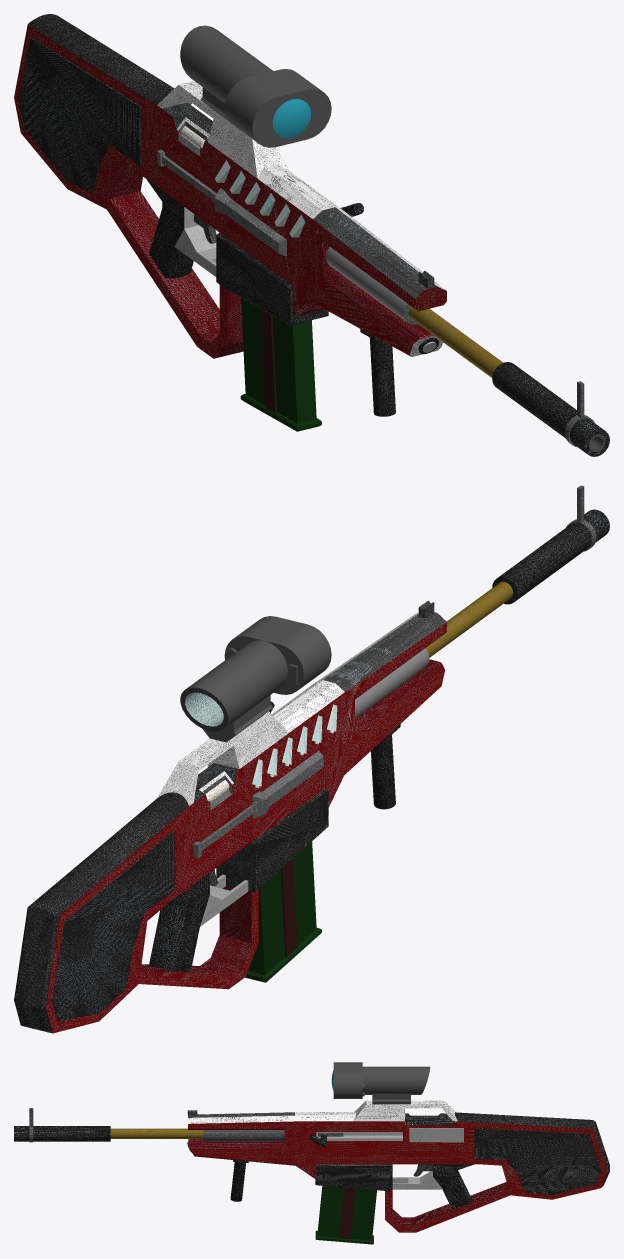
File: Gun1.dae
3 renders of one model, top to bottom at view 1: azimuth 30°, elevation 25°; view 2: azimuth 150°, elevation 25°; view 3: azimuth 270°, elevation 25°, orthographic. The views are drawn at different scales.
Parts seen in each view (by area): view 1: SketchUp (×25); view 2: SketchUp (×24); view 3: SketchUp (×20).
Part boxes in pixels (<box>): SketchUp (×25): <box>14,14,609,456</box>; SketchUp (×24): <box>14,523,591,1033</box>; SketchUp (×20): <box>33,1062,609,1244</box>.
Bounding box in the file's own units: 5.52 × 60.72 × 19.55.
